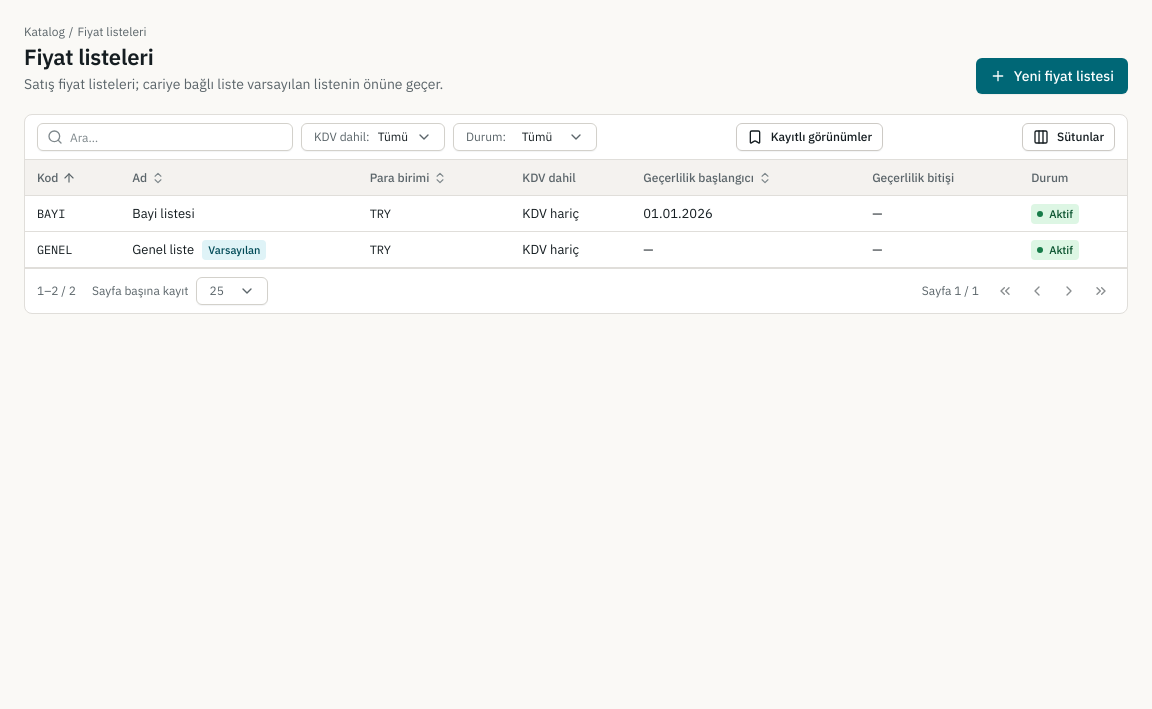
Test: price lists › lists price lists and creates one
expect the text "Bayi listesi" is shown: met, box [132,204,195,222]
expect the text "Varsayılan" is shown: met, box [202,240,266,260]
Click the link "Yeni fiyat listesi". click: (1052, 76)
box: [976,58,1128,94]
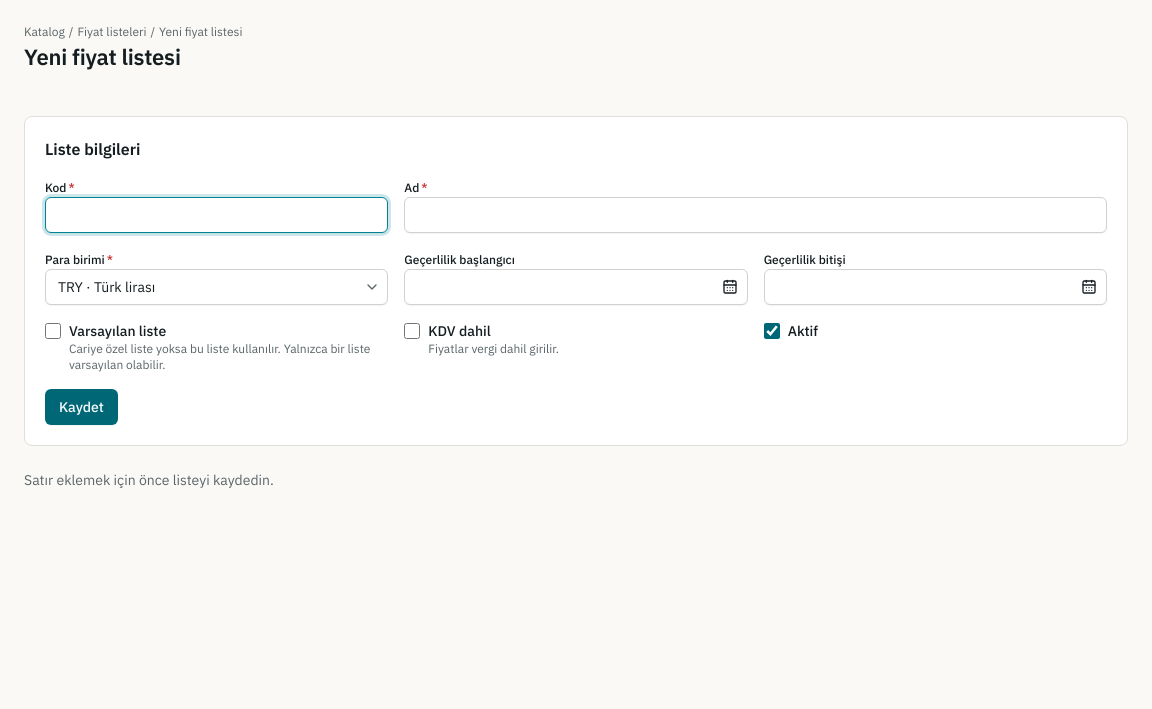
Type "IHR" into the field labelled "Kod*". click: (217, 215)
box: [45,197,388,233]
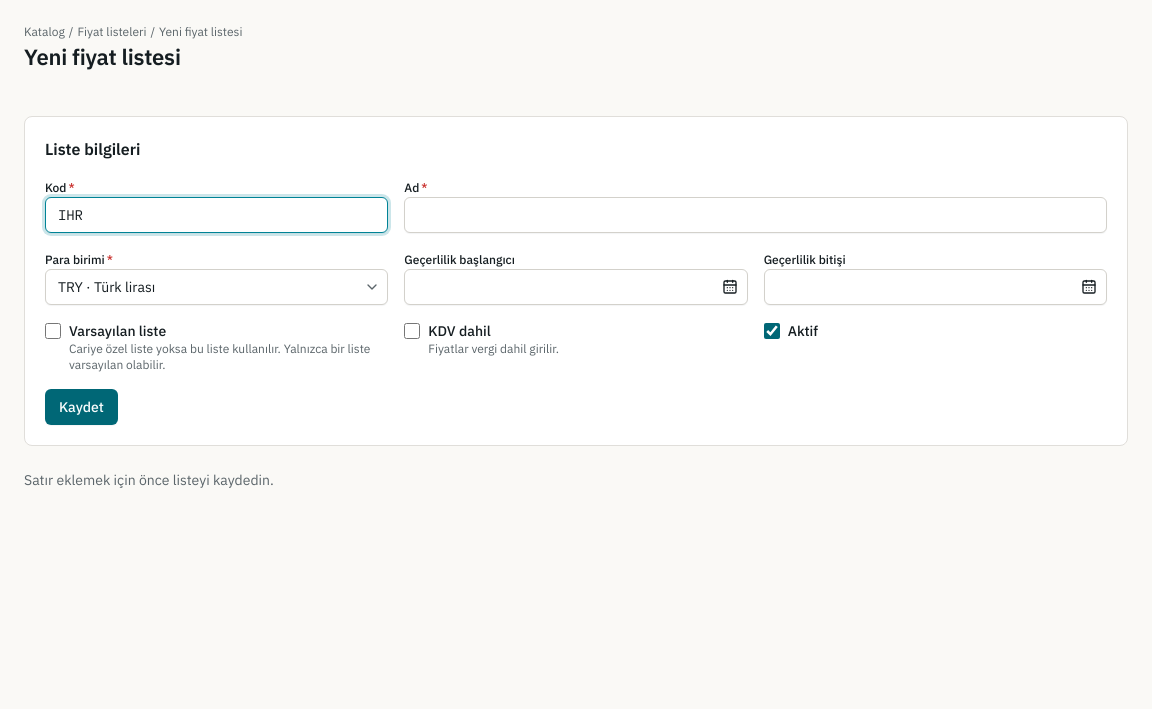
Type "İhracat" into the field labelled "Ad*". click: (756, 215)
box: [404,197,1107,233]
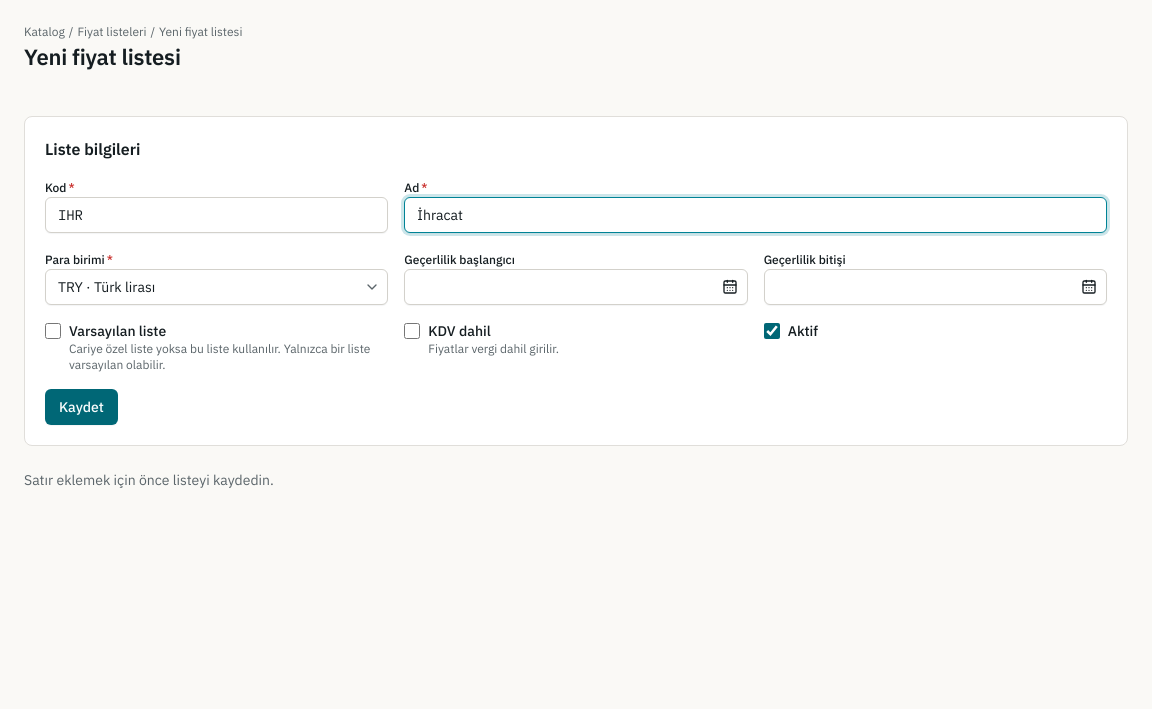
Click the button "Kaydet". click: (81, 407)
box: [45,389,118,425]
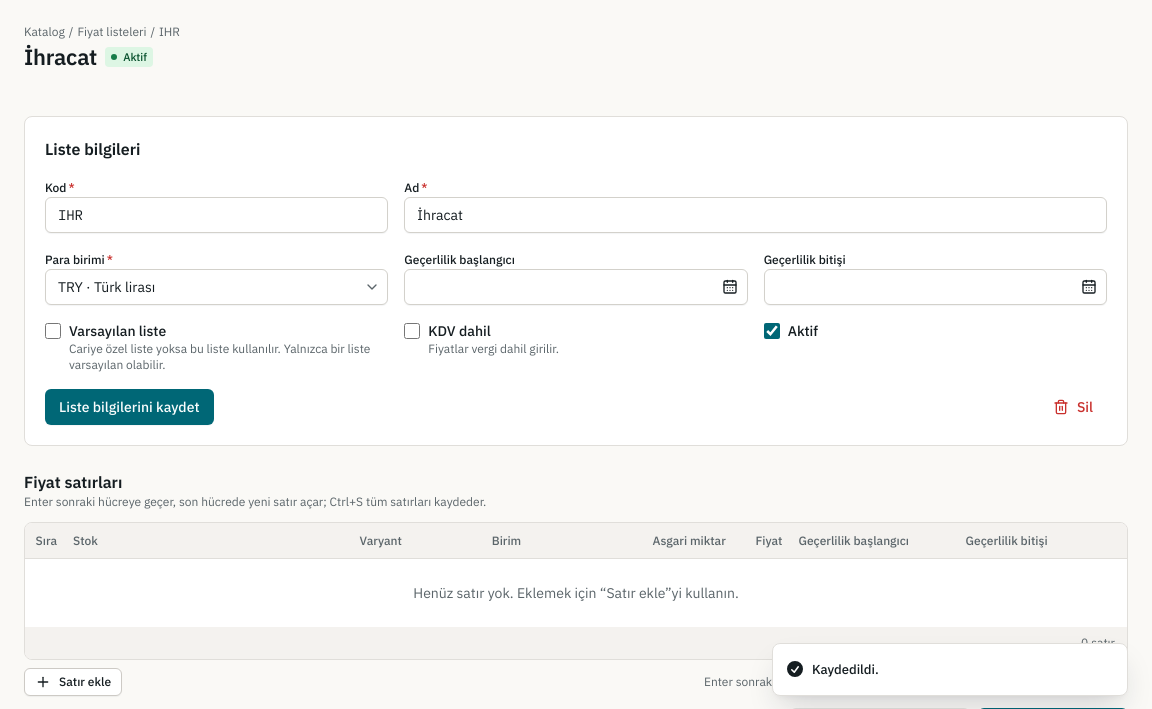
expect the table named "Fiyat satırları" is shown: met, box [25,523,1127,659]
